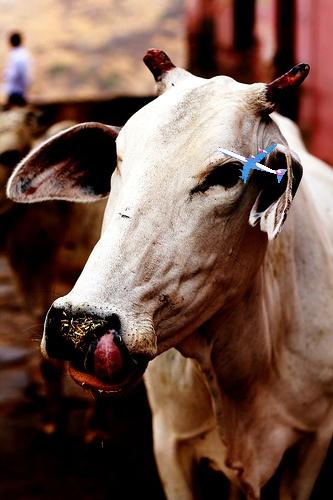tampered: (218, 145, 287, 183)
